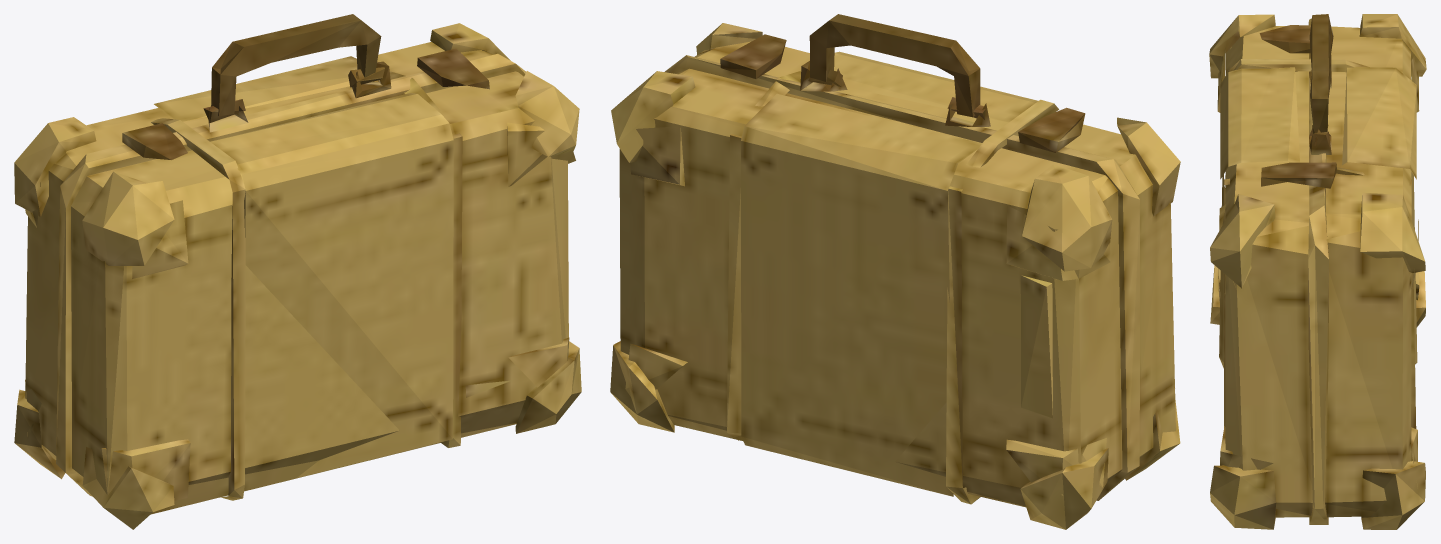
Rendered from prop.briefcase_gold.glb.
3 views of the same model, side by side, from view 1: azimuth 30°, elevation 25°; view 2: azimuth 150°, elevation 25°; view 3: azimuth 270°, elevation 25° (orthographic). The views are drawn at different scales.
Parts seen in each view (by area): view 1: body; view 2: body; view 3: body.
Boxes of the visible parts, x1=… form: body: x1=14, y1=14, x2=581, y2=529; body: x1=610, y1=14, x2=1180, y2=529; body: x1=1209, y1=14, x2=1426, y2=529.
Bounding box in the file's own units: 0.32 × 0.2668 × 0.1336.
1 material, 1 textured.
